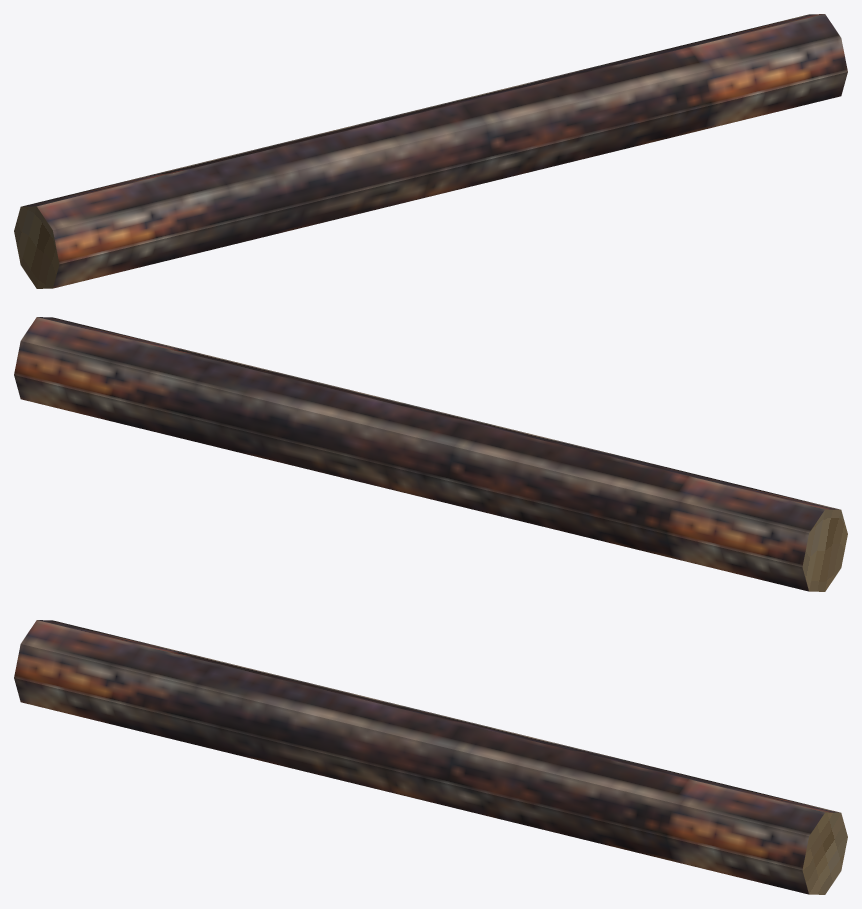
The model's file is Log01.obj.
The picture shows the model from 3 angles, top to bottom: view 1: azimuth 30°, elevation 25°; view 2: azimuth 150°, elevation 25°; view 3: azimuth 330°, elevation 25°; orthographic projection.
Visible parts, largest first — view 1: Log01; view 2: Log01; view 3: Log01.
Boxes of the visible parts, left/top/right/bottom form: Log01: left=14, top=14, right=847, bottom=288; Log01: left=14, top=317, right=847, bottom=591; Log01: left=14, top=620, right=847, bottom=894.
Size of the model in its own units: 10 by 1 by 1.
